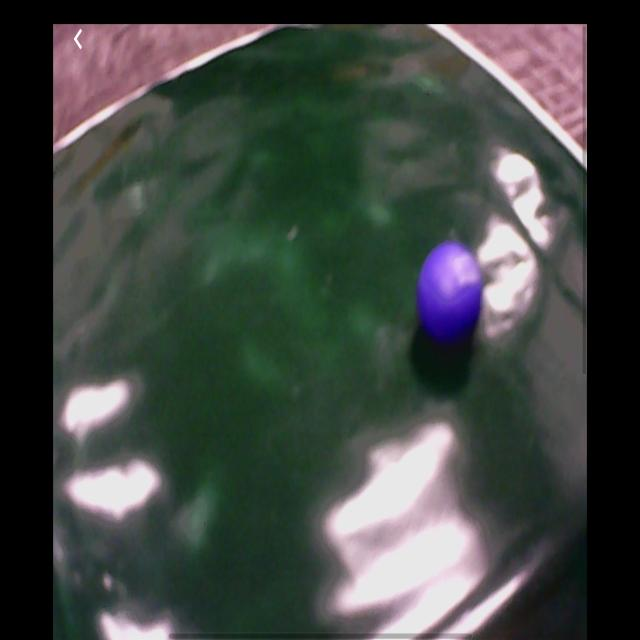ball: (418, 243, 482, 342)
